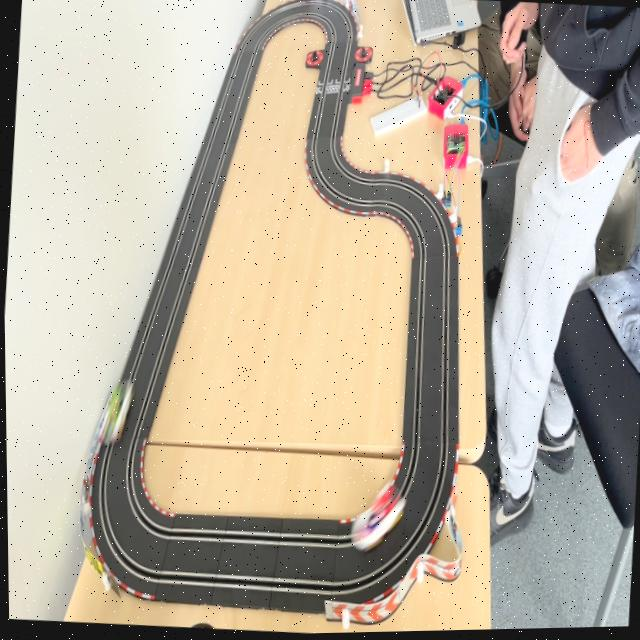mario: (344, 486, 410, 561)
yoshi: (95, 375, 136, 445)
